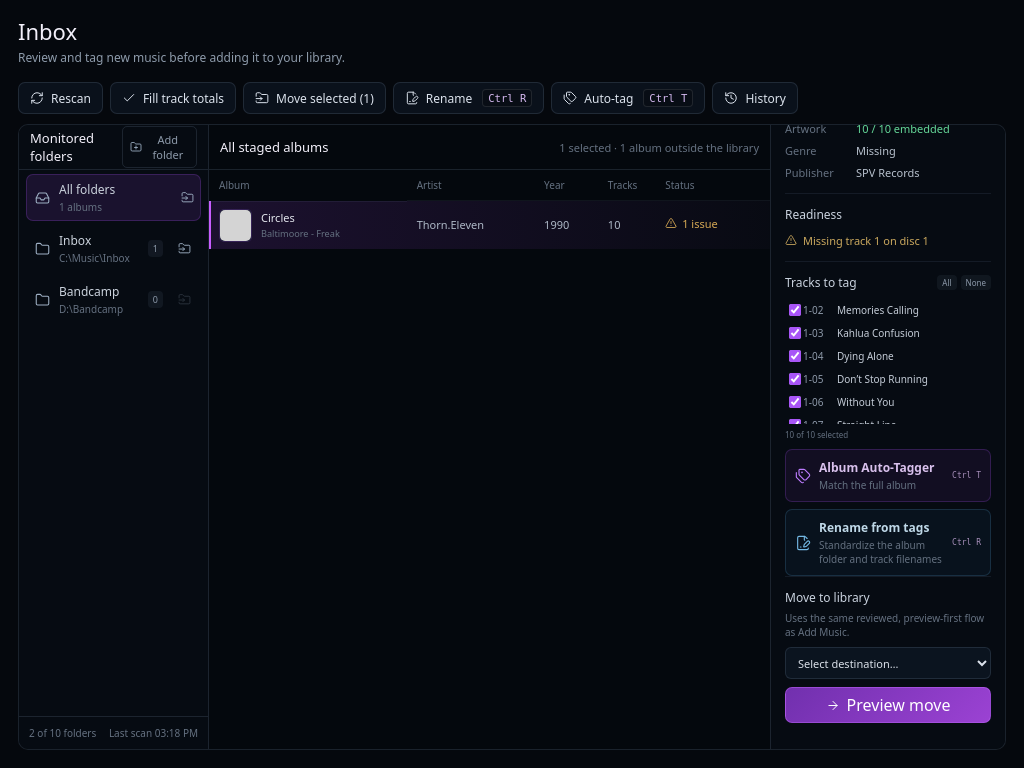
Test: Inbox › shows the missing first track and blocks intake until a rescan confirms it is present
(page scrolled)
Expected: the row named "Circles by Thorn.Eleven" shows "1 issue", top-left (682, 216), bottom-right (718, 231)
Expected: the list item "Missing track 1 on disc 1" is shown, top-left (785, 231), bottom-right (929, 249)
Select "General music" in the dropdown named "Library destination" at (888, 663), box top-left (785, 647), bottom-right (991, 679)
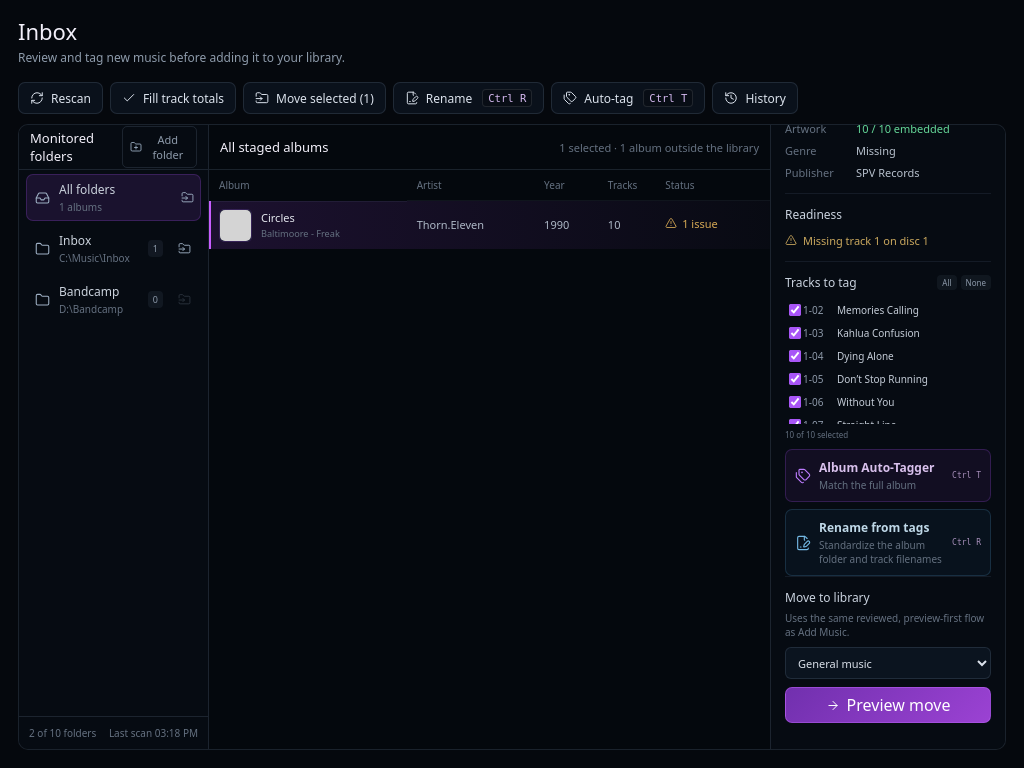
Expected: the button "Preview move" is disabled, top-left (785, 687), bottom-right (991, 723)
Click the button "Rescan" at (60, 98), box top-left (18, 82), bottom-right (103, 114)
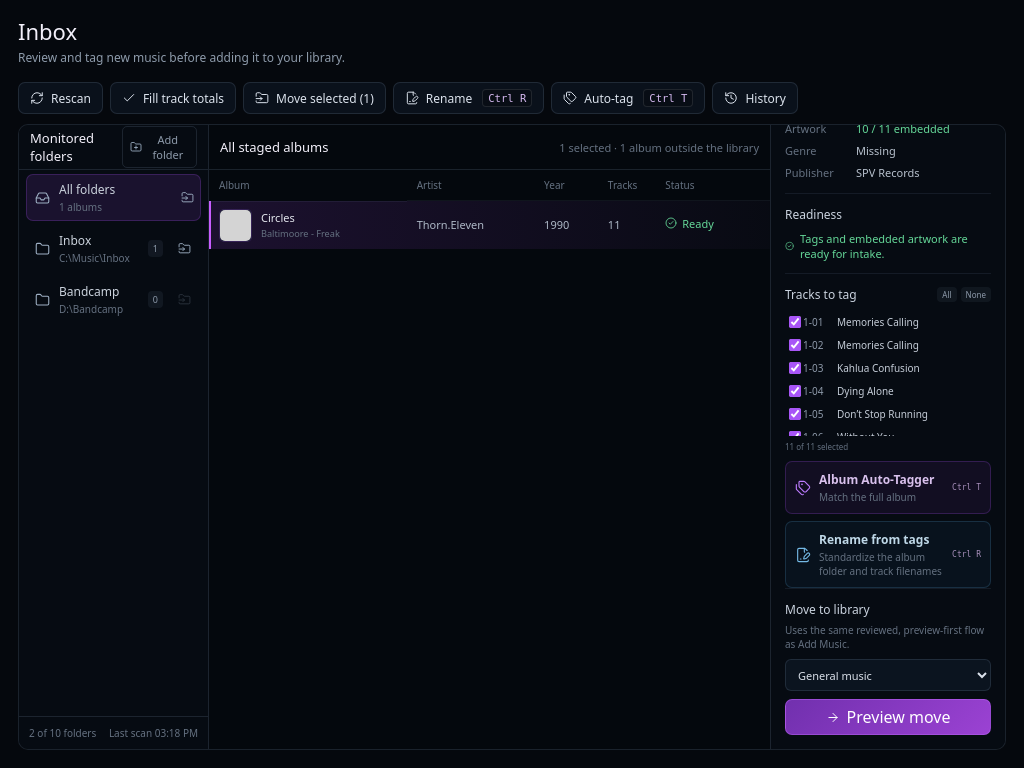
Now the row named "Circles by Thorn.Eleven" shows "Ready", box top-left (682, 216), bottom-right (714, 231)
Now the list item "Missing track 1 on disc 1" is gone
Now the button "Preview move" is enabled, box top-left (785, 699), bottom-right (991, 735)
